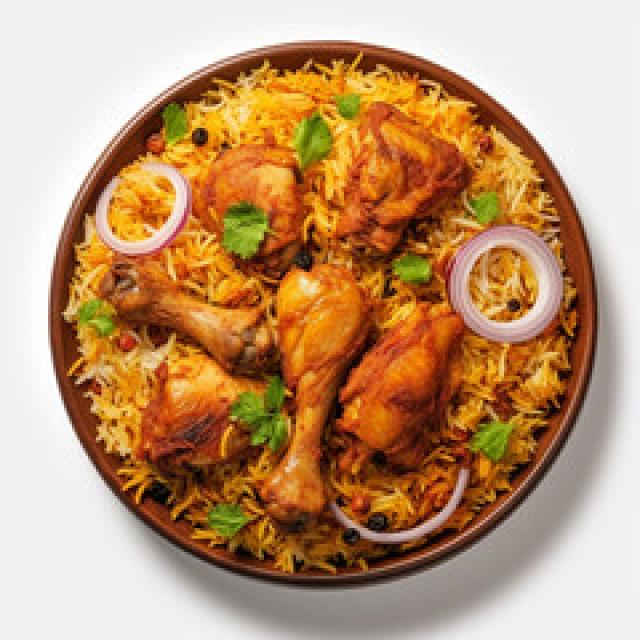BIRIYANI: (65, 62, 579, 571)
